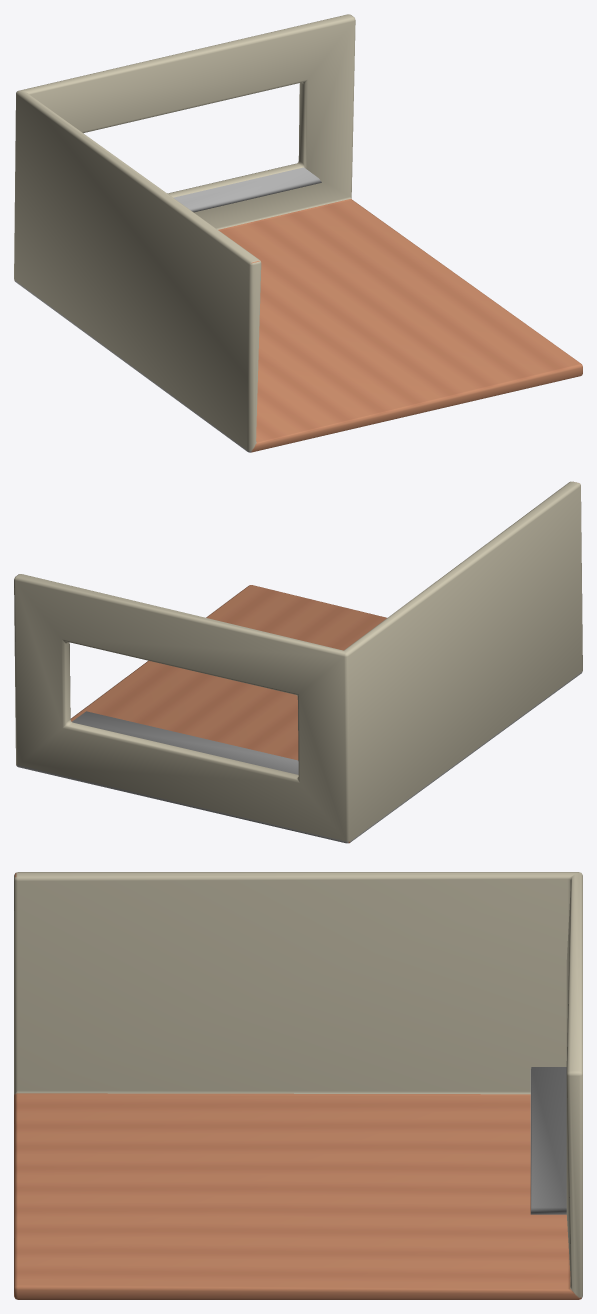
Rendered from Mesh_Enviro_Room.fbx.
3 views of the same model, one above another, from view 1: azimuth 30°, elevation 25°; view 2: azimuth 150°, elevation 25°; view 3: azimuth 270°, elevation 25° (orthographic). The views are drawn at different scales.
Visible parts, largest first — view 1: scene; view 2: scene; view 3: scene.
Boxes of the visible parts, box(x1,y1,x2,y2) form: scene: box(14, 14, 582, 452); scene: box(14, 481, 582, 843); scene: box(14, 872, 582, 1299).
Size of the model in its own units: 370 by 203 by 449.
